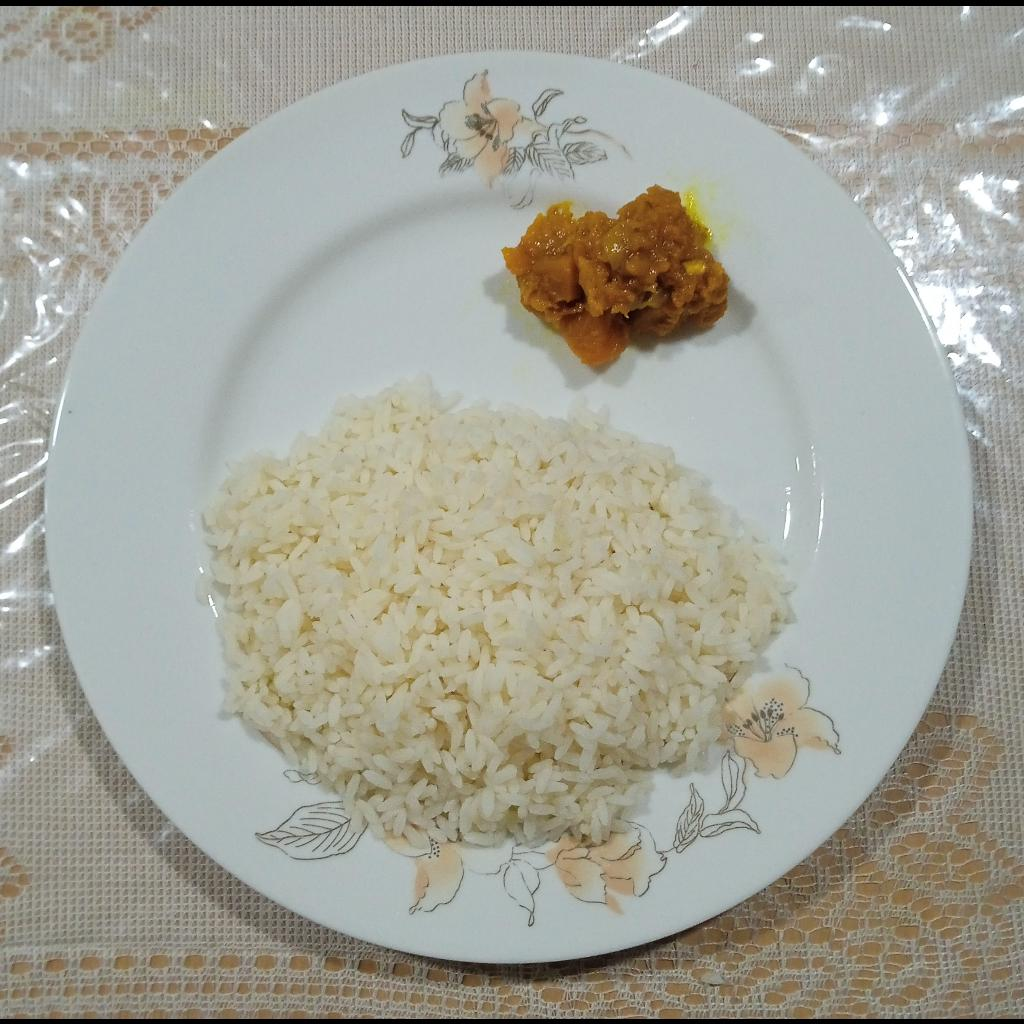kumra-vaji: (500, 184, 734, 370)
rice: (205, 374, 801, 847)
